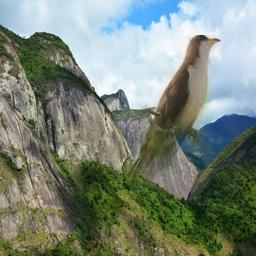Cuckoo: (117, 35, 221, 195)
